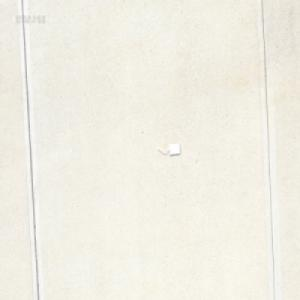LuggageTag: (155, 141, 180, 157)
